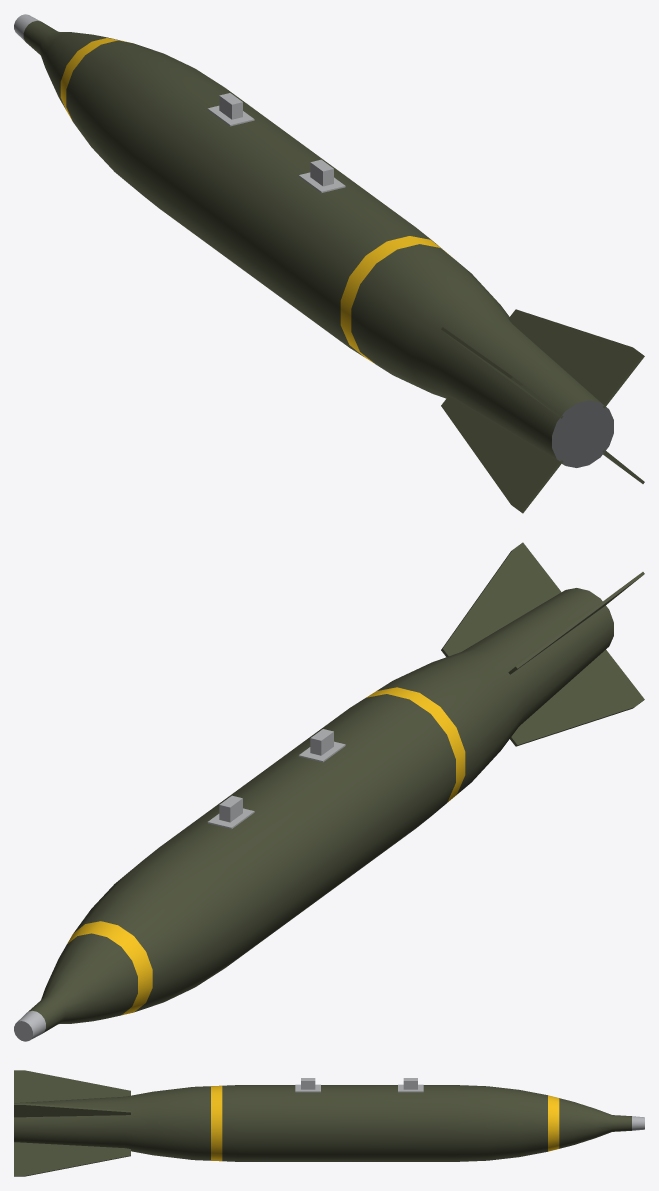
The picture shows the model from 3 angles, top to bottom: view 1: azimuth 30°, elevation 25°; view 2: azimuth 150°, elevation 25°; view 3: azimuth 270°, elevation 25°; orthographic projection. The views are drawn at different scales.
Visible parts, largest first — view 1: mk82; view 2: mk82; view 3: mk82.
Boxes of the visible parts, left/top/right/bottom form: mk82: left=14, top=14, right=644, bottom=513; mk82: left=14, top=542, right=644, bottom=1041; mk82: left=14, top=1070, right=644, bottom=1176.
Size of the model in its own units: 0.2824 by 0.3107 by 2.21.
